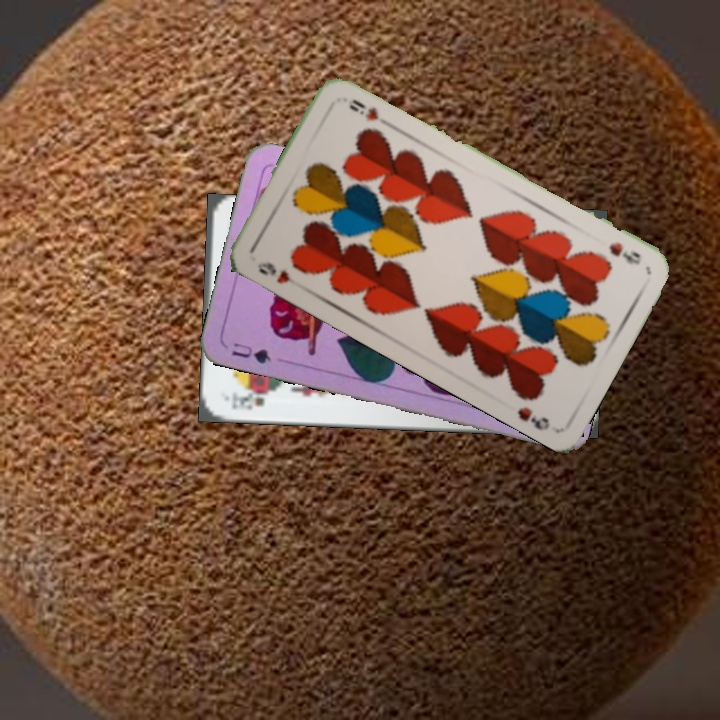GU: (227, 339, 274, 367)
H9: (253, 258, 293, 287), (605, 238, 644, 267)
SK: (227, 387, 270, 413)
